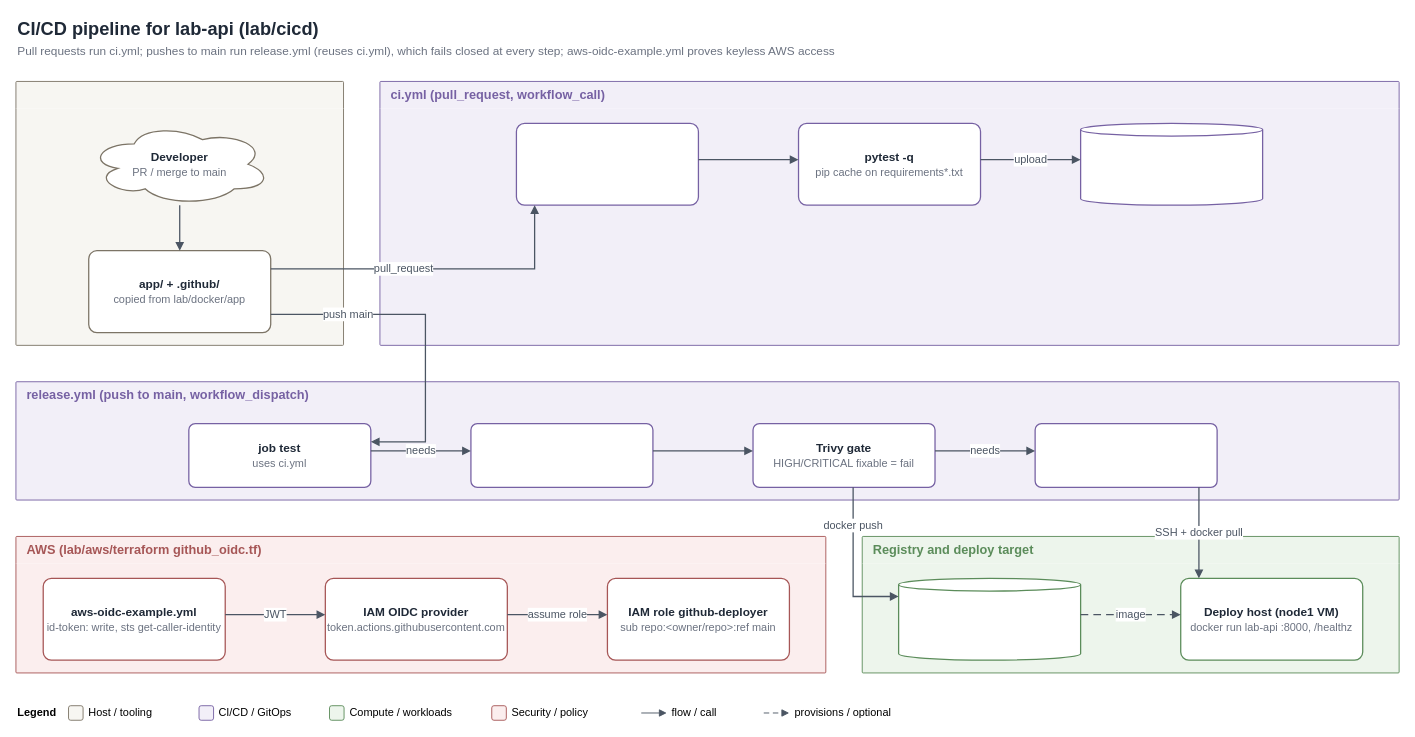
The diagram is 1415 pixels wide and 737 high, and some of its shapes have lost their labels. The shapes that lost their labels are listed below. From the top down, each one's box as (x1, y1, x2, y2) in pixels, then its label:
(515, 122, 699, 205): test matrix Python 3.11 / 3.12 / 3.13
(1080, 122, 1263, 205): JUnit artifacts junit-<python>.xml
(15, 81, 344, 345): GitHub repo lab-api
(470, 423, 653, 487): job build buildx, target runtime, gha cache
(1034, 423, 1217, 487): job deploy if ENABLE_DEPLOY, env production
(898, 577, 1081, 660): GHCR ghcr.io/<owner>/lab-api:<sha12>
